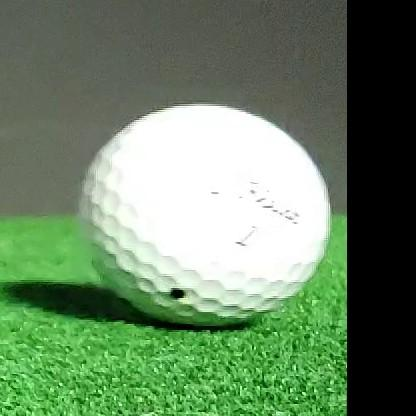golfball: (80, 106, 330, 325)
